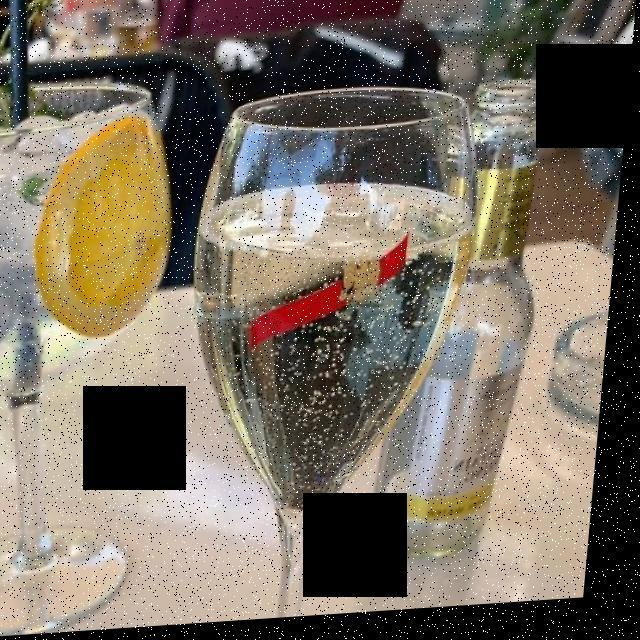prosecco: (206, 190, 457, 512)
